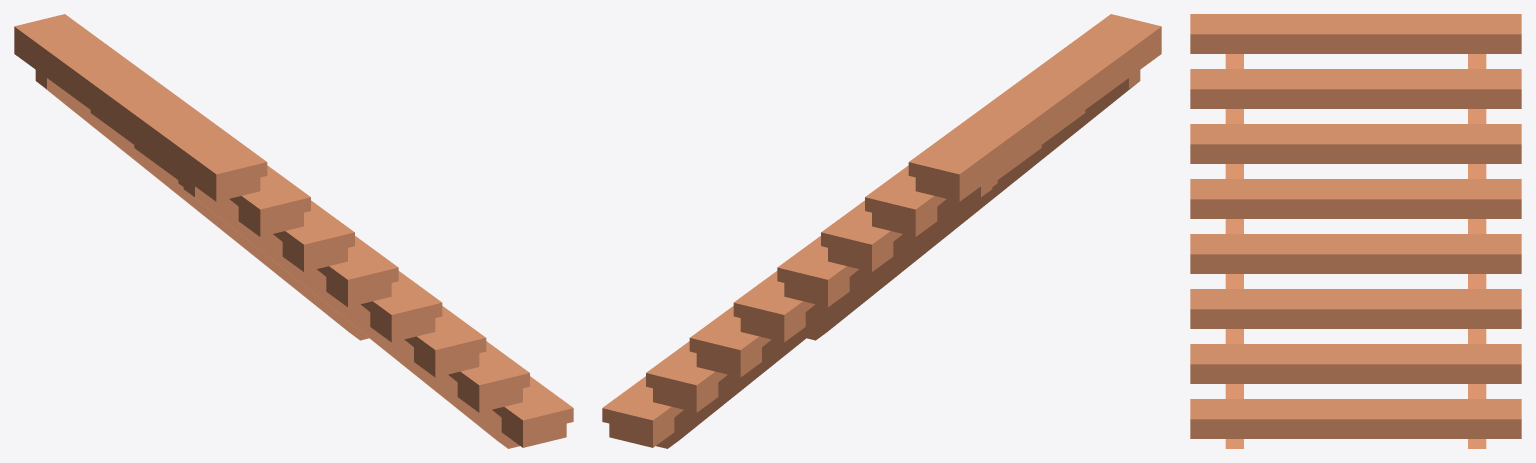
The model's file is stairsWideWood.glb.
The picture shows the model from 3 angles, left to right: view 1: azimuth 30°, elevation 25°; view 2: azimuth 150°, elevation 25°; view 3: azimuth 270°, elevation 25°; orthographic projection. The views are drawn at different scales.
Visible parts, largest first — view 1: stairsWideWood; view 2: stairsWideWood; view 3: stairsWideWood.
Part boxes in pixels (left/top/right/bottom): stairsWideWood: left=14, top=14, right=573, bottom=448; stairsWideWood: left=602, top=14, right=1161, bottom=448; stairsWideWood: left=1190, top=14, right=1521, bottom=448.
Bounding box in the file's own units: 3.06 × 3 × 3.
